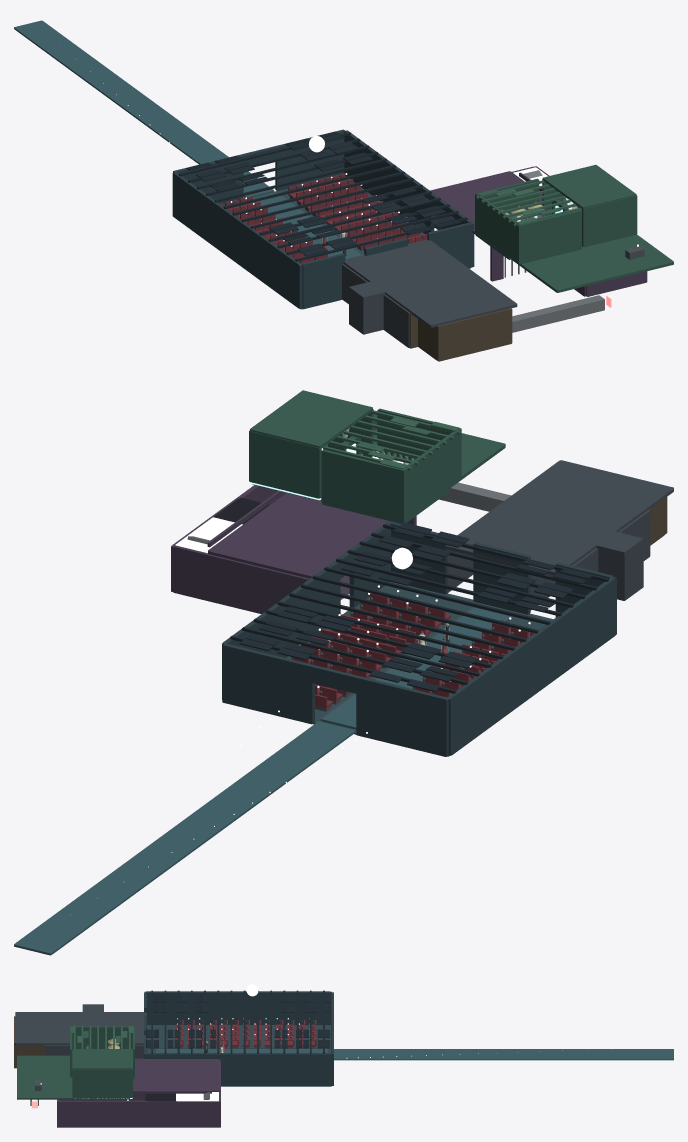
File: house_of_velvet.glb
The picture shows the model from 3 angles, top to bottom: view 1: azimuth 30°, elevation 25°; view 2: azimuth 150°, elevation 25°; view 3: azimuth 270°, elevation 25°; orthographic projection. The views are drawn at different scales.
Parts seen in each view (by area): view 1: skeletal_roof, ceil_halls, wall_show_W, runway_void, L2_slab, audience_seats, office_S, at_wall_S, iv_ceil, wall_show_E_N, iv_wall_S, atelier_beams (+15 smaller); view 2: skeletal_roof, ceil_halls, runway_void, wall_show_W, wing_ceil, audience_seats, wall_show_N_W, wall_show_N_E, wing_N, at_wall_N, iv_ceil, iv_wall_N (+14 smaller); view 3: wall_show_W, skeletal_roof, wing_E, runway_void, wall_show_E_N, ceil_halls, wing_ceil, L2_slab, iv_wall_E, audience_seats, floor_show, iv_ceil (+9 smaller).
Boxes of the visible parts, x1=… form: skeletal_roof: x1=179, y1=131, x2=467, y2=261; ceil_halls: x1=343, y1=239, x2=517, y2=327; wall_show_W: x1=172, y1=172, x2=302, y2=308; runway_void: x1=14, y1=20, x2=274, y2=197; L2_slab: x1=511, y1=209, x2=673, y2=292; audience_seats: x1=220, y1=173, x2=427, y2=263; office_S: x1=436, y1=308, x2=512, y2=361; at_wall_S: x1=517, y1=210, x2=581, y2=264; iv_ceil: x1=542, y1=164, x2=636, y2=208; wall_show_E_N: x1=344, y1=130, x2=434, y2=234; iv_wall_S: x1=582, y1=196, x2=636, y2=247; atelier_beams: x1=476, y1=180, x2=581, y2=226; skeletal_roof: x1=230, y1=522, x2=608, y2=693; ceil_halls: x1=445, y1=460, x2=673, y2=575; runway_void: x1=14, y1=721, x2=355, y2=955; wall_show_W: x1=447, y1=576, x2=616, y2=755; wing_ceil: x1=208, y1=493, x2=393, y2=578; audience_seats: x1=291, y1=593, x2=534, y2=708; wall_show_N_W: x1=356, y1=676, x2=448, y2=756; wall_show_N_E: x1=222, y1=643, x2=314, y2=724; wing_N: x1=173, y1=546, x2=309, y2=613; at_wall_N: x1=321, y1=449, x2=405, y2=521; iv_ceil: x1=250, y1=390, x2=372, y2=448; iv_wall_N: x1=249, y1=431, x2=321, y2=498; wall_show_W: x1=144, y1=991, x2=331, y2=1024; skeletal_roof: x1=146, y1=990, x2=330, y2=1053; wing_E: x1=59, y1=1100, x2=220, y2=1127; runway_void: x1=334, y1=1049, x2=673, y2=1060; wall_show_E_N: x1=204, y1=1053, x2=331, y2=1086; ceil_halls: x1=15, y1=1012, x2=146, y2=1045; wing_ceil: x1=133, y1=1058, x2=219, y2=1091; L2_slab: x1=17, y1=1055, x2=130, y2=1099; iv_wall_E: x1=72, y1=1069, x2=132, y2=1097; audience_seats: x1=176, y1=1020, x2=316, y2=1046; floor_show: x1=147, y1=1025, x2=330, y2=1052; iv_ceil: x1=72, y1=1049, x2=132, y2=1069.
Size of what is drawn, in the model's own units: 34.45 by 11.17 by 92.4.
